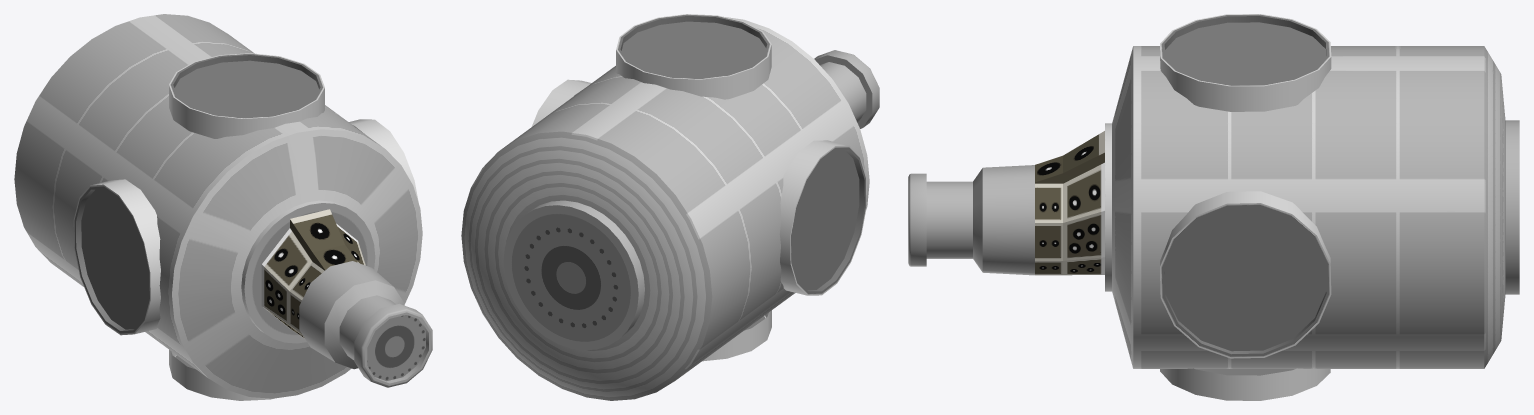
File: iss_harmony.fbx
3 renders of one model, left to right at view 1: azimuth 30°, elevation 25°; view 2: azimuth 150°, elevation 25°; view 3: azimuth 270°, elevation 25°, orthographic. The views are drawn at different scales.
Parts seen in each view (by area): view 1: harmony; view 2: harmony; view 3: harmony.
Part boxes in pixels (bbox=[...]): harmony: bbox=[14, 14, 432, 400]; harmony: bbox=[461, 14, 879, 400]; harmony: bbox=[908, 14, 1519, 400].
Size of what is drawn, in the model's own units: 4.94 by 4.94 by 8.7.
